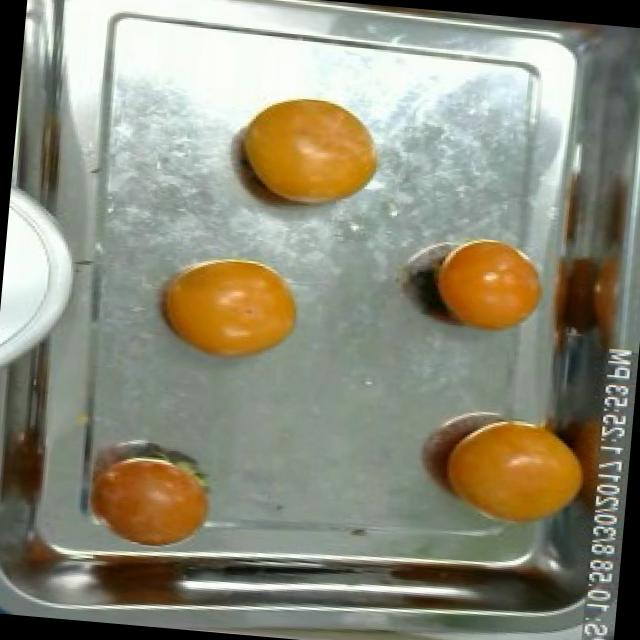Fruit: (424, 400, 595, 540), (222, 86, 392, 220), (140, 244, 310, 374), (72, 428, 230, 554), (413, 222, 556, 348)
